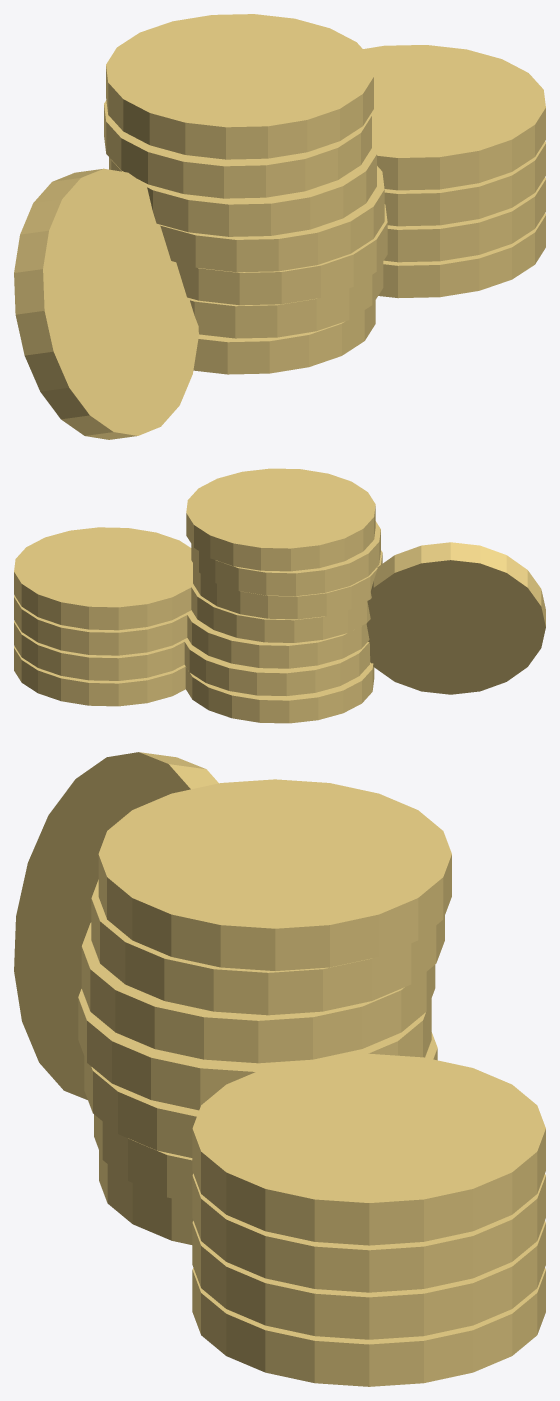
Rendered from moedas.glb.
3 renders of one model, top to bottom at view 1: azimuth 30°, elevation 25°; view 2: azimuth 150°, elevation 25°; view 3: azimuth 270°, elevation 25°, orthographic. The views are drawn at different scales.
Parts seen in each view (by area): view 1: agro_moedas_00; view 2: agro_moedas_00; view 3: agro_moedas_00.
Part boxes in pixels (<box>): agro_moedas_00: <box>14,14,545,439</box>; agro_moedas_00: <box>14,468,545,723</box>; agro_moedas_00: <box>14,752,545,1386</box>.
Bounding box in the file's own units: 1.81 × 0.7499 × 1.02.
